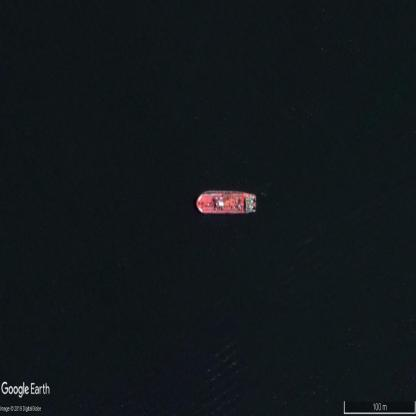ship: (197, 192, 256, 213)
